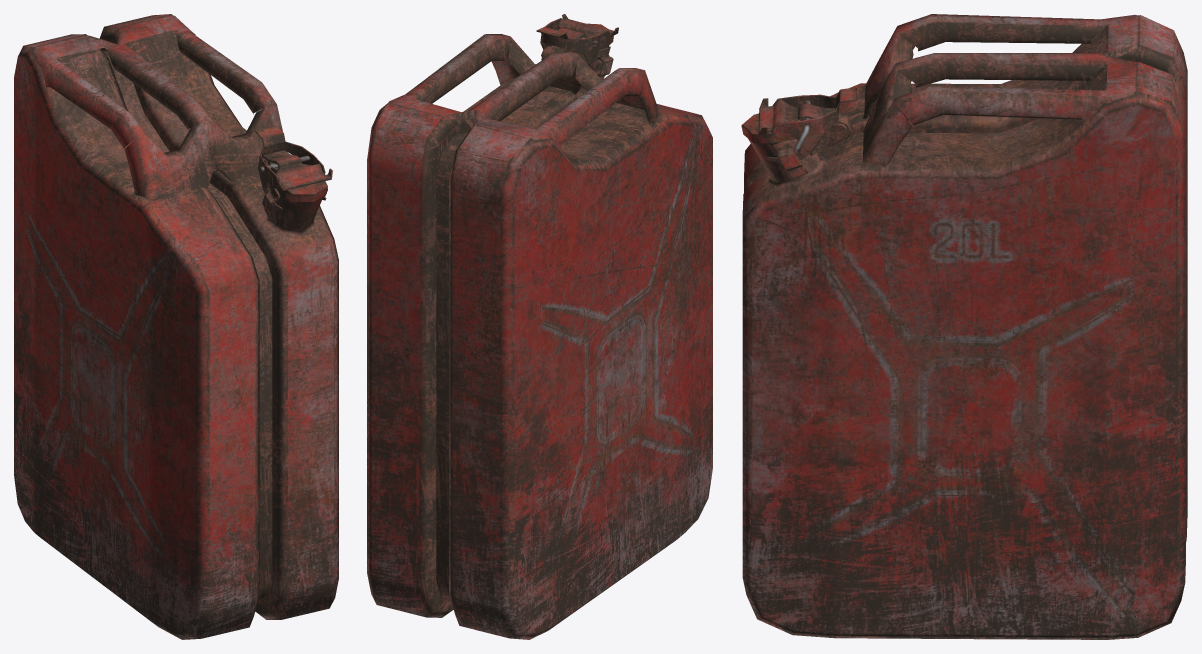
File: uploads_files_3570940_worn_jerrycan_(FBX).fbx
3 renders of one model, left to right at view 1: azimuth 30°, elevation 25°; view 2: azimuth 150°, elevation 25°; view 3: azimuth 270°, elevation 25°, orthographic. The views are drawn at different scales.
Visible parts, largest first — view 1: worn_jerrycan; view 2: worn_jerrycan; view 3: worn_jerrycan.
Boxes of the visible parts, left/top/right/bottom form: worn_jerrycan: left=14, top=14, right=338, bottom=639; worn_jerrycan: left=367, top=14, right=712, bottom=639; worn_jerrycan: left=741, top=14, right=1187, bottom=639.
Bounding box in the file's own units: 16.8 × 47 × 34.78.
1 material, 1 textured.
